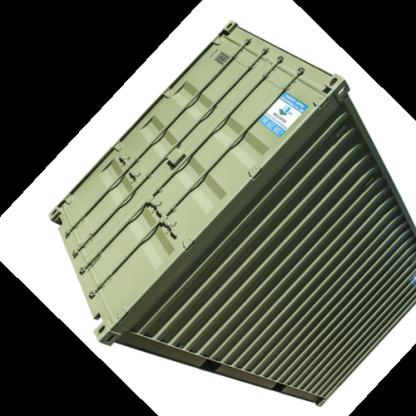Damage: (161, 252, 191, 280)
